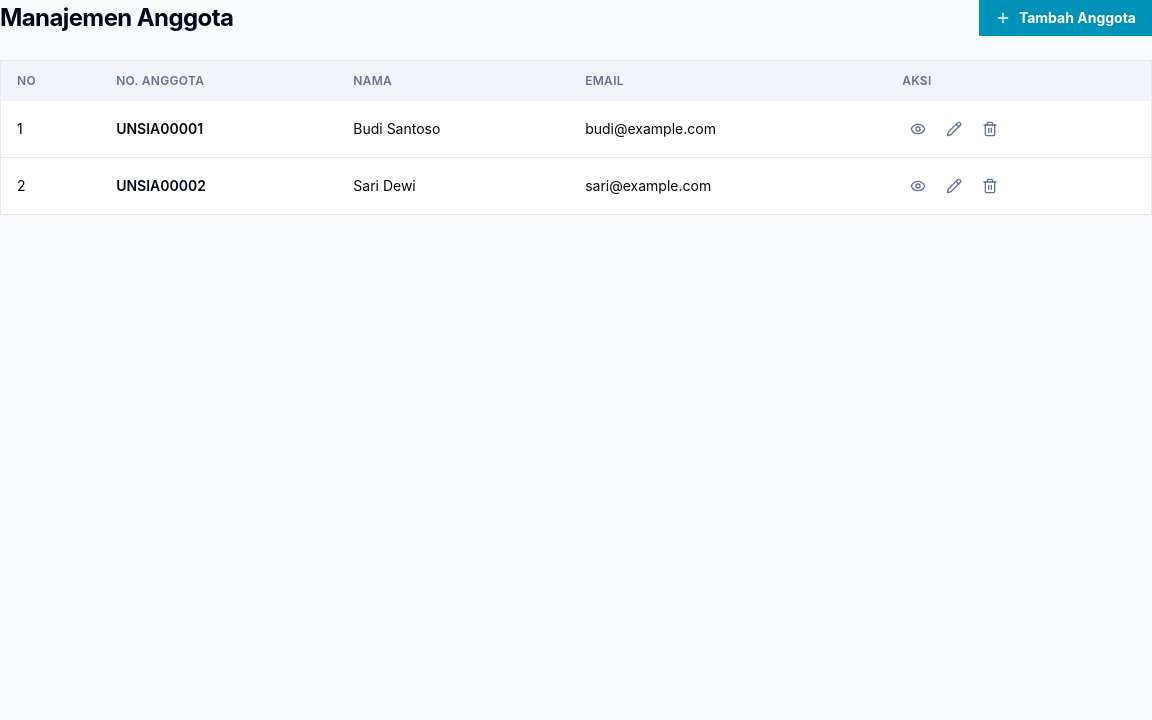
it: MembersPage › shows all fields and audit info in the detail modal
Expected: the text "Budi Santoso" is shown, x1=337 y1=101 x2=569 y2=158
Click the button named "Lihat detail" in the row of "UNSIA00001". click: point(918, 129)
box: x1=902 y1=113 x2=934 y2=145
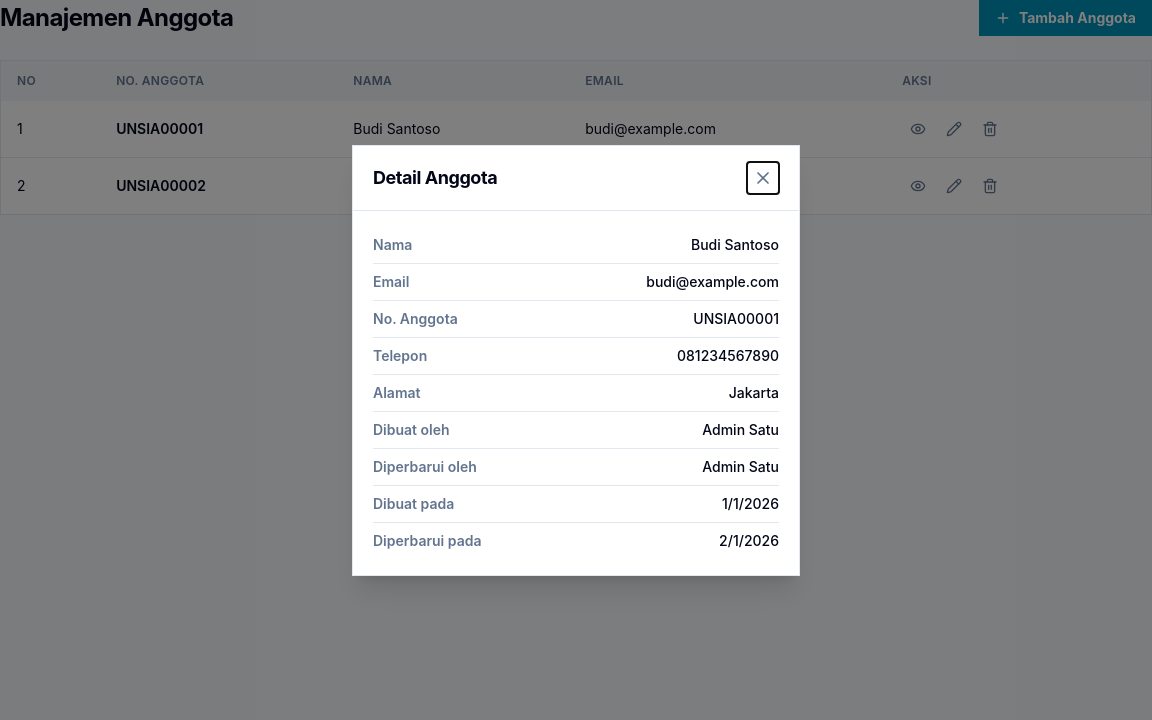
Result: the text "Budi Santoso" is shown at x1=691 y1=234 x2=779 y2=254
Result: the text "budi@example.com" is shown at x1=646 y1=272 x2=779 y2=292
Result: the text "UNSIA00001" is shown at x1=693 y1=308 x2=779 y2=328
